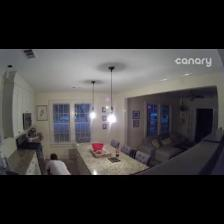person: (46, 154, 70, 174)
